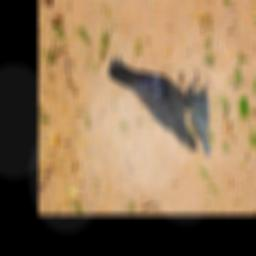Crow: (107, 55, 208, 152)
